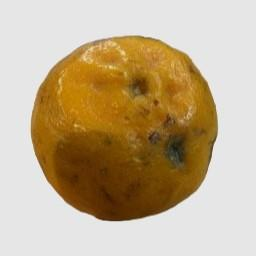Unripe: (29, 36, 216, 221)
